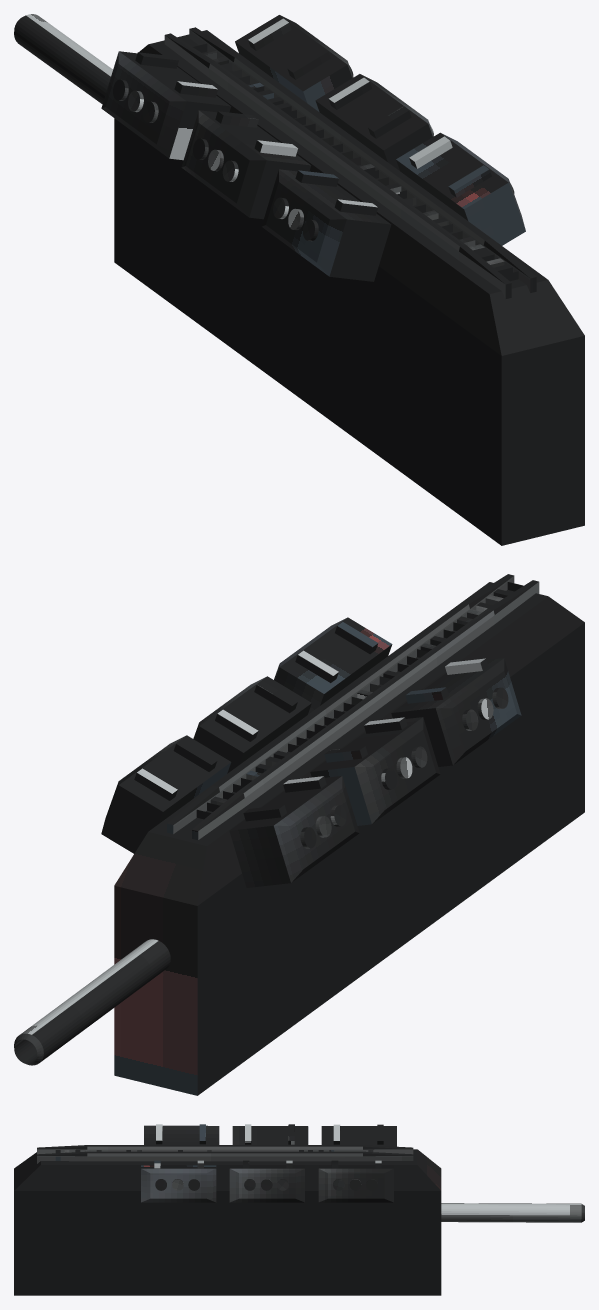
The model's file is gun.obj.
3 views of the same model, one above another, from view 1: azimuth 30°, elevation 25°; view 2: azimuth 150°, elevation 25°; view 3: azimuth 270°, elevation 25° (orthographic). The views are drawn at different scales.
Parts seen in each view (by area): view 1: Cylinder.001_Cylinder.027; view 2: Cylinder.001_Cylinder.027; view 3: Cylinder.001_Cylinder.027.
Boxes of the visible parts, left/top/right/bottom form: Cylinder.001_Cylinder.027: left=14, top=14, right=584, bottom=545; Cylinder.001_Cylinder.027: left=14, top=574, right=584, bottom=1095; Cylinder.001_Cylinder.027: left=14, top=1124, right=584, bottom=1295.
Size of the model in its own units: 1.69 by 2.05 by 7.51.
1 material, 1 textured.
